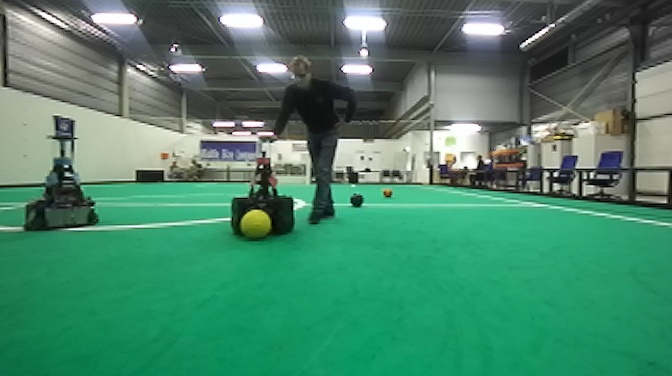ball: (240, 207, 274, 242), (348, 191, 367, 209), (379, 185, 395, 200)
goalpost: (305, 159, 311, 188)
human: (257, 53, 358, 227)
robot: (19, 113, 102, 233), (228, 133, 298, 239)
